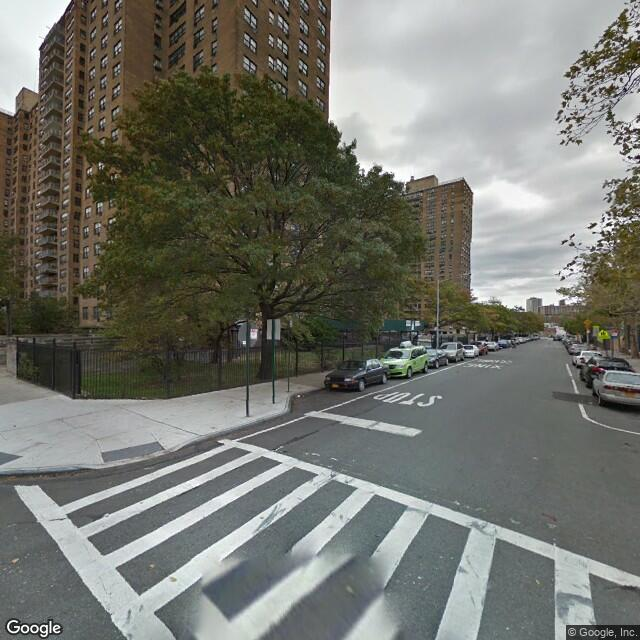litter: (293, 392, 303, 400)
